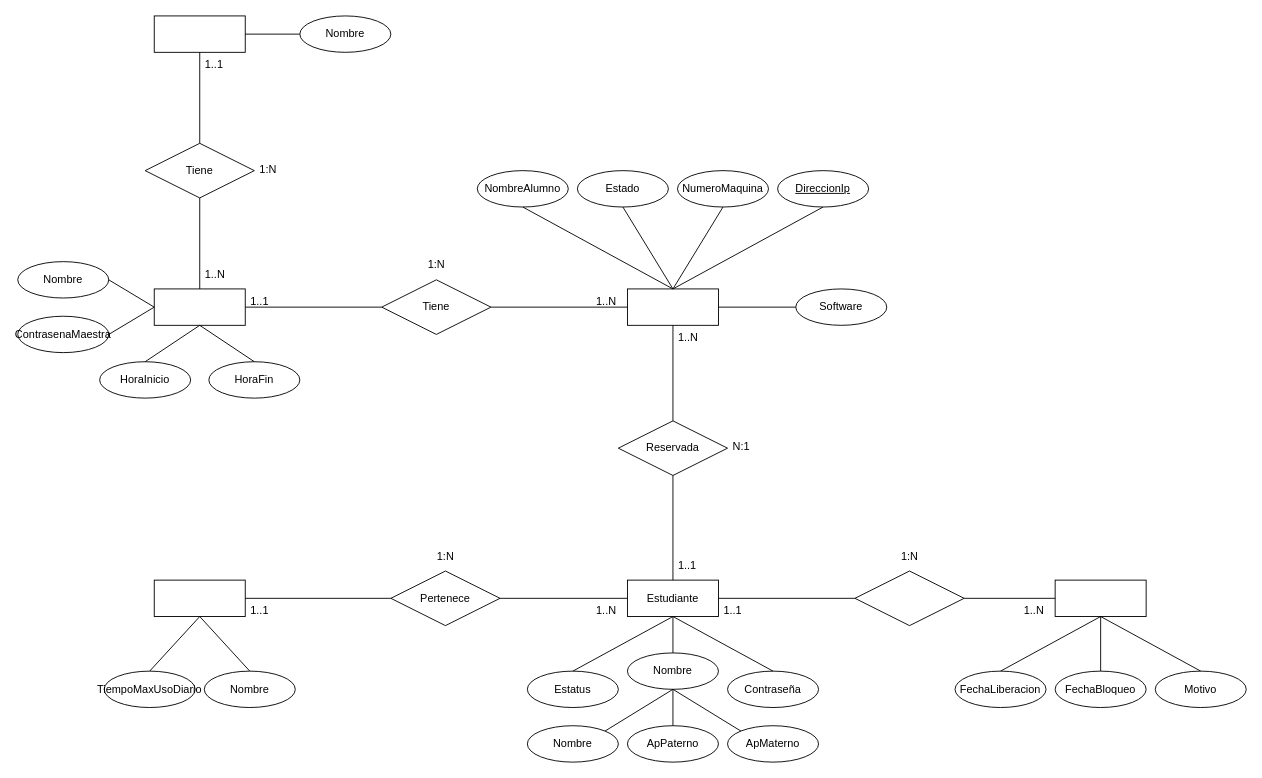
Image size: 1262x778. Some labels were removed from this diagram. The shapes that lost their labels are listed below. From the top down, each one's centre as x and y in pixels, then its label:
At (x=199, y=33): "Unidad academica".
At (x=199, y=306): "Centro computo".
At (x=672, y=306): "Computadora".
At (x=199, y=598): "Carrera".
At (x=909, y=598): "Recibe".
At (x=1100, y=598): "Bloqueo".
